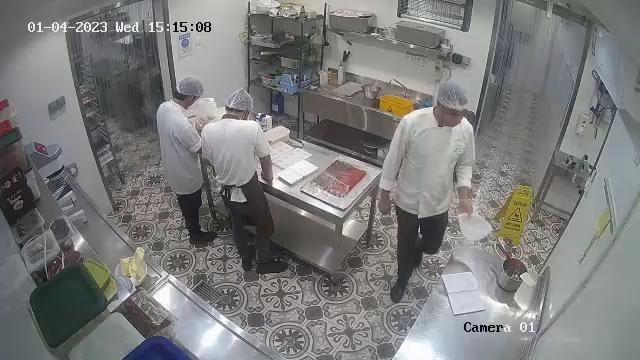gloves: (438, 78, 472, 110), (223, 88, 258, 112), (177, 75, 204, 95)
no_apron: (377, 193, 398, 216), (457, 199, 479, 216)
no_hairnet: (443, 116, 467, 131), (186, 102, 199, 109)
